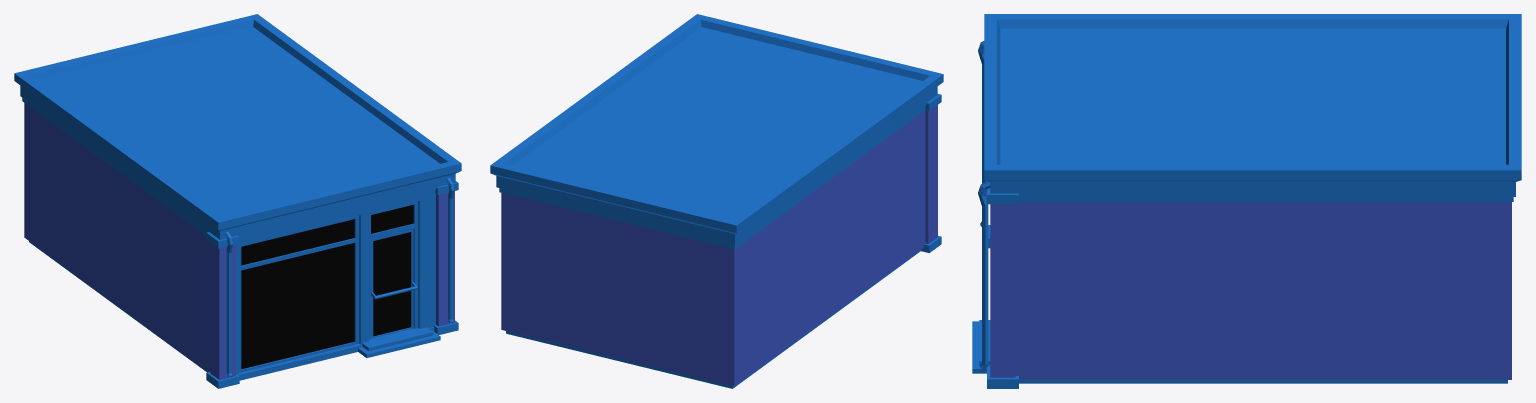
Rendered from SM_laundry.fbx.
3 renders of one model, left to right at view 1: azimuth 30°, elevation 25°; view 2: azimuth 150°, elevation 25°; view 3: azimuth 270°, elevation 25°, orthographic. The views are drawn at different scales.
Visible parts, largest first — view 1: Cylinder_3, Cube_36, Cube_4; view 2: Cube_36, Cylinder_3; view 3: Cylinder_3, Cube_36.
Boxes of the visible parts, x1,y1,x2,y2 form: Cylinder_3: [14, 14, 461, 377]; Cube_36: [22, 98, 458, 388]; Cube_4: [371, 228, 417, 338]; Cube_36: [499, 94, 941, 388]; Cylinder_3: [490, 14, 943, 245]; Cylinder_3: [978, 14, 1521, 371]; Cube_36: [972, 188, 1513, 388].
Bounding box in the file's own units: 562 × 369 × 835.
